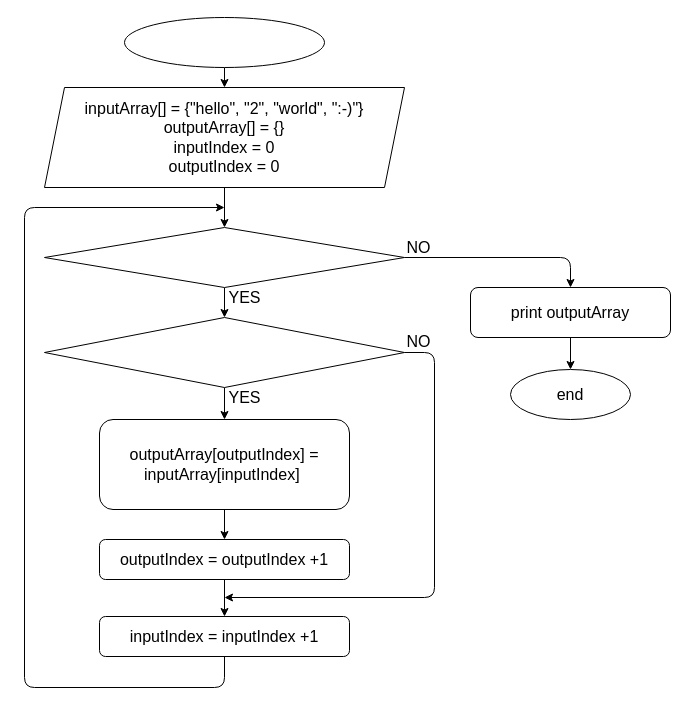
Image size: 688x713. Some labels were removed from this diagram. Here are the shapes that lost their labels. From the top down, the box of each, then its label:
(124, 16, 324, 68): begin
(44, 226, 404, 288): inputIndex < inputArray.Lenght
(44, 316, 404, 388): inputArray[inputIndex].Lenght <= 3
